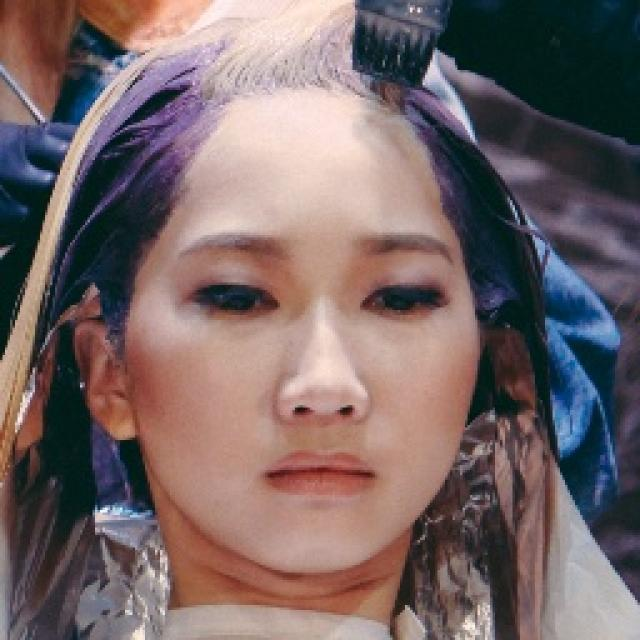earlobe: (71, 320, 138, 442)
